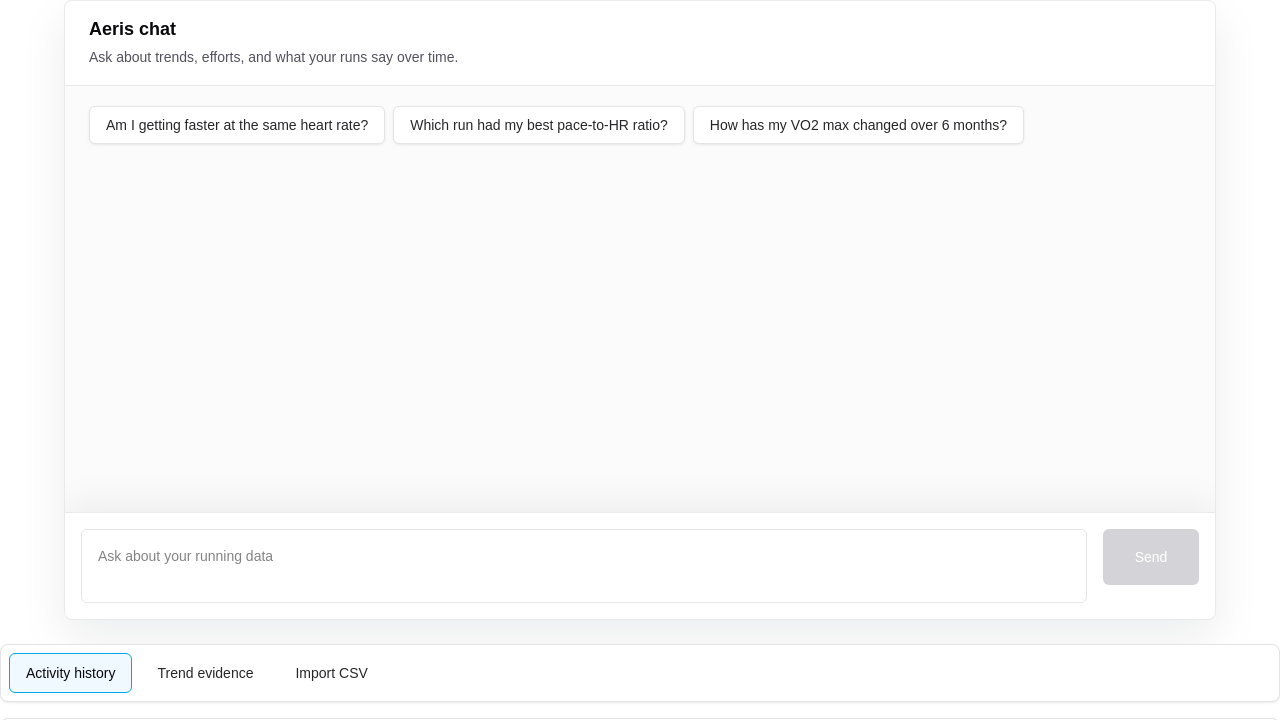
Scenario: AerisApp › shows demo visitors why Garmin uploads are disabled
Click the tab "Import CSV" at (332, 673), box [278,653,385,693]
(page scrolled)
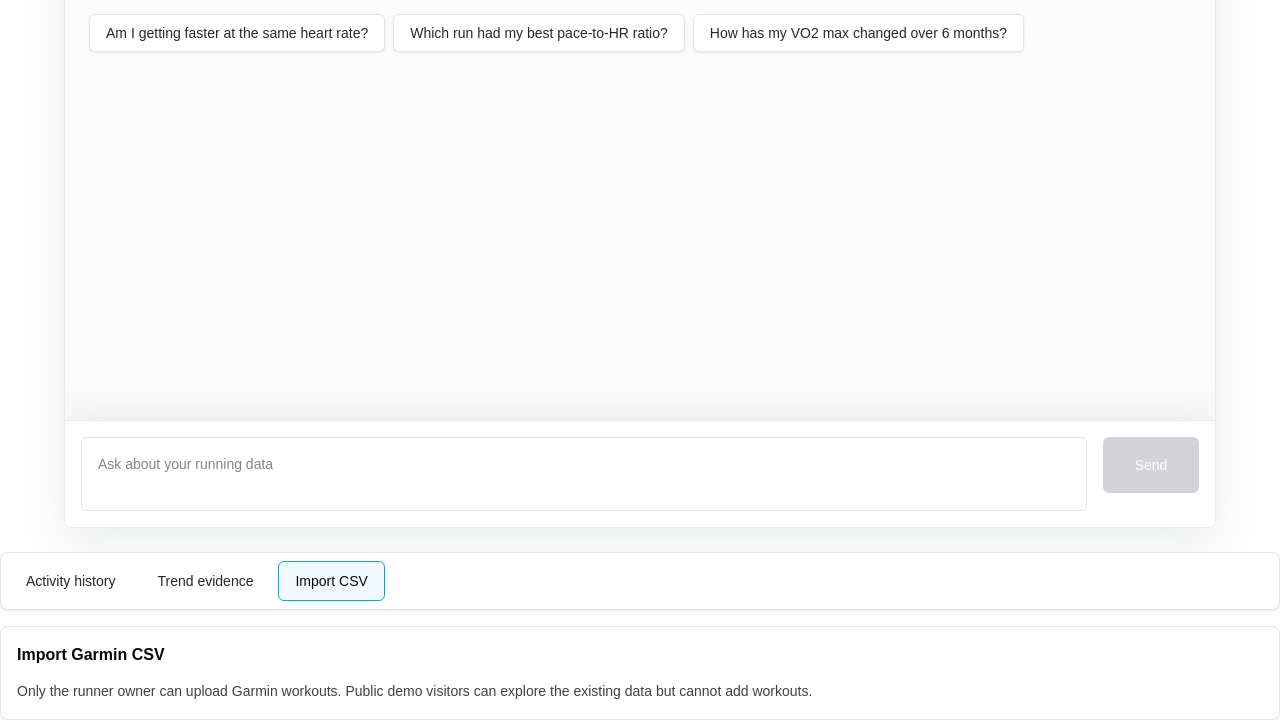
Expected: the element "Import Garmin CSV" is shown, [0,626,1279,719]
Expected: the text "Only the runner owner can upload Garmin workouts. Public demo visitors can explore the existing data but cannot add work" is shown, [17,683,812,699]
